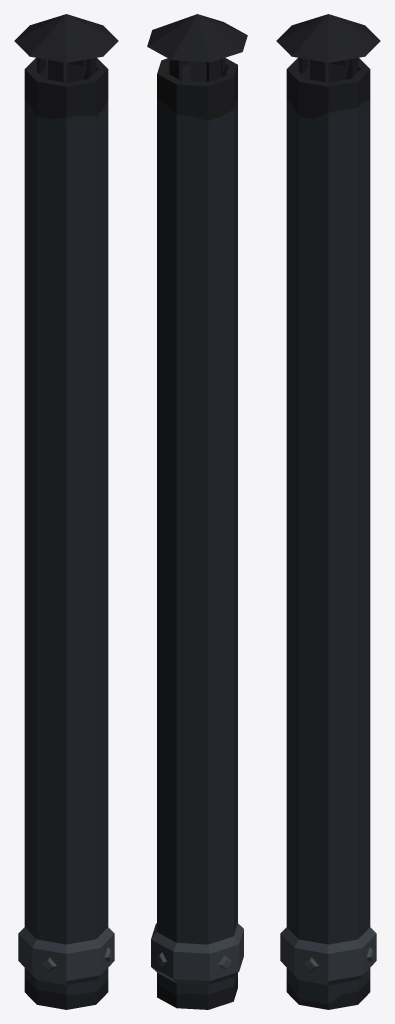
The model's file is SM_Stove_Pipe_D.gltf.
The picture shows the model from 3 angles, left to right: view 1: azimuth 90°, elevation 25°; view 2: azimuth 150°, elevation 25°; view 3: azimuth 270°, elevation 25°; orthographic projection.
Visible parts, largest first — view 1: SM_Stove_Pipe_D; view 2: SM_Stove_Pipe_D; view 3: SM_Stove_Pipe_D.
Boxes of the visible parts, x1=… form: SM_Stove_Pipe_D: x1=14, y1=14, x2=118, y2=1009; SM_Stove_Pipe_D: x1=147, y1=14, x2=247, y2=1009; SM_Stove_Pipe_D: x1=276, y1=14, x2=380, y2=1009.
Size of the model in its own units: 0.3074 by 3.18 by 0.3074.
Materials: 1 (1 with a texture image).
